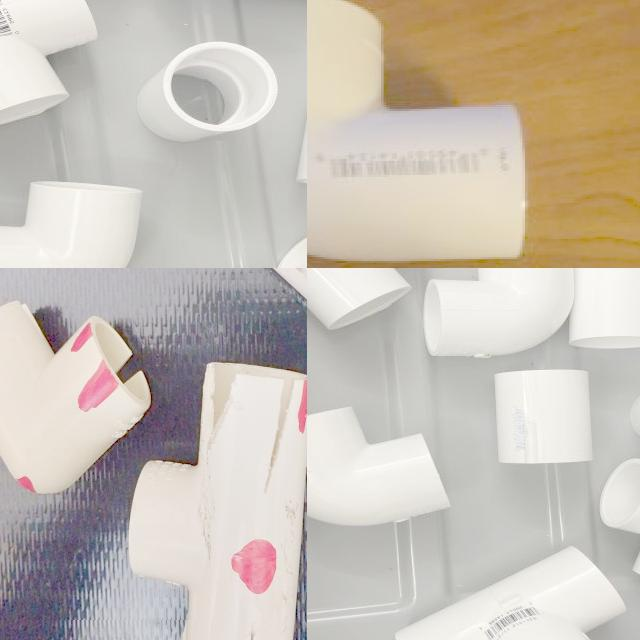Defective: (117, 493, 209, 537), (152, 420, 218, 467), (45, 459, 85, 516), (101, 391, 141, 439), (66, 404, 109, 438), (183, 268, 220, 304), (169, 550, 204, 565), (286, 517, 307, 538), (297, 490, 307, 520), (244, 633, 275, 640), (299, 615, 307, 640)
L Joint: (307, 0, 528, 265), (0, 181, 145, 268), (141, 268, 254, 348)
T Joint: (0, 316, 218, 566), (224, 476, 307, 640)
